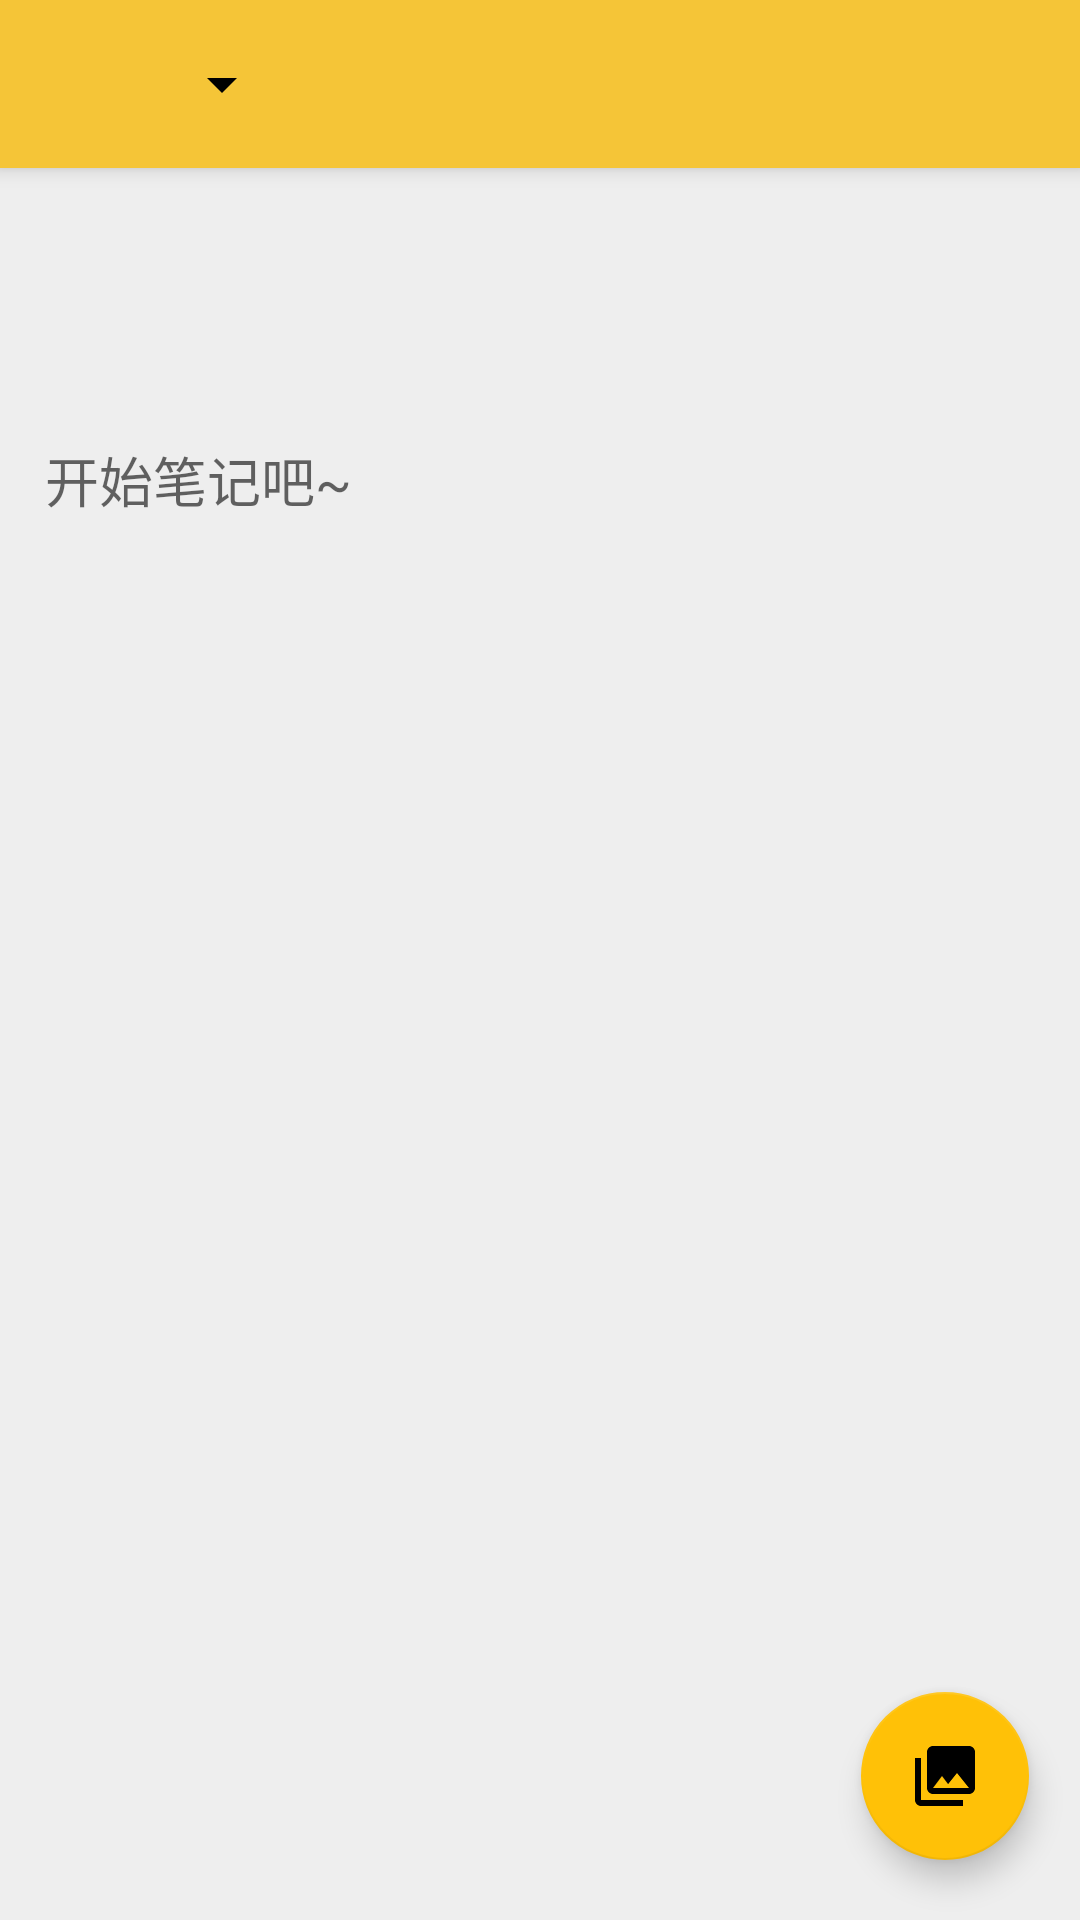

Screen size 1080*1920. Icon name, then its center in pixels as (x=x, y=y):
photo library: (x=945, y=1776)
